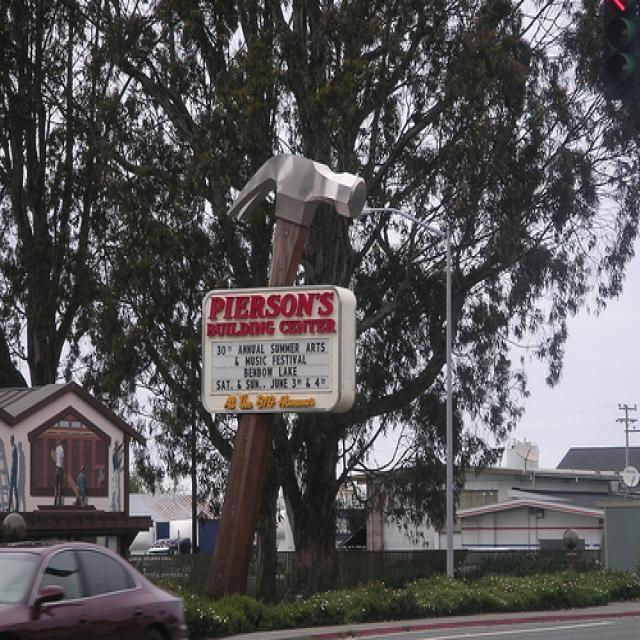hammer: (204, 146, 374, 600)
